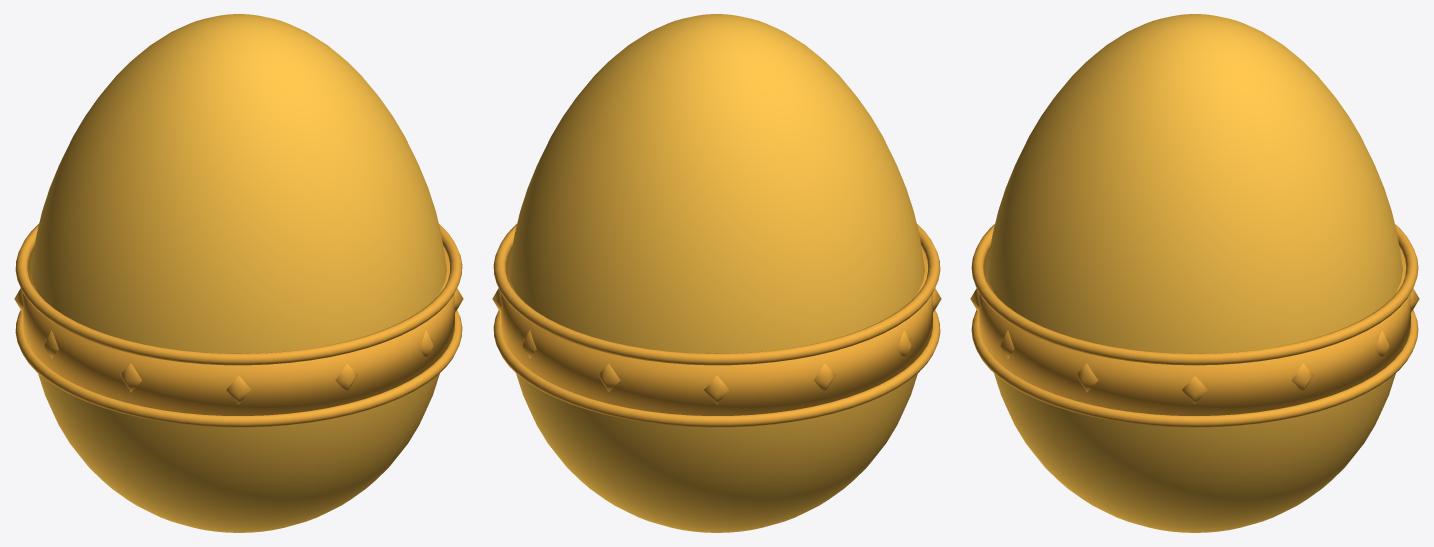
File: golden_egg.glb
3 renders of one model, left to right at view 1: azimuth 30°, elevation 25°; view 2: azimuth 150°, elevation 25°; view 3: azimuth 270°, elevation 25°, orthographic.
Visible parts, largest first — view 1: GoldenEgg; view 2: GoldenEgg; view 3: GoldenEgg.
Boxes of the visible parts, left/top/right/bottom form: GoldenEgg: left=14, top=14, right=463, bottom=532; GoldenEgg: left=492, top=14, right=941, bottom=532; GoldenEgg: left=970, top=14, right=1419, bottom=532.
Bounding box in the file's own units: 1.84 × 2.2 × 1.84.
